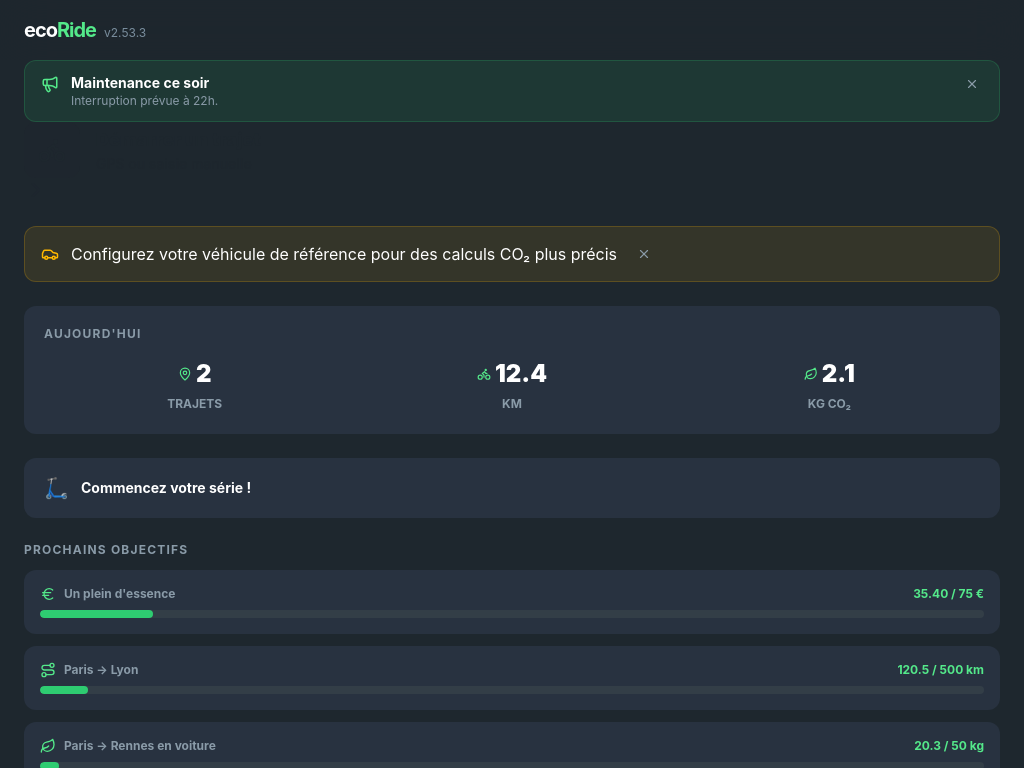
Test: DashboardPage announcement banner › stores the current announcement id when dismissed
The width and height of the screenshot is (1024, 768).
Click the button named "Fermer l'annonce" at (972, 84), box [961,73,983,95]
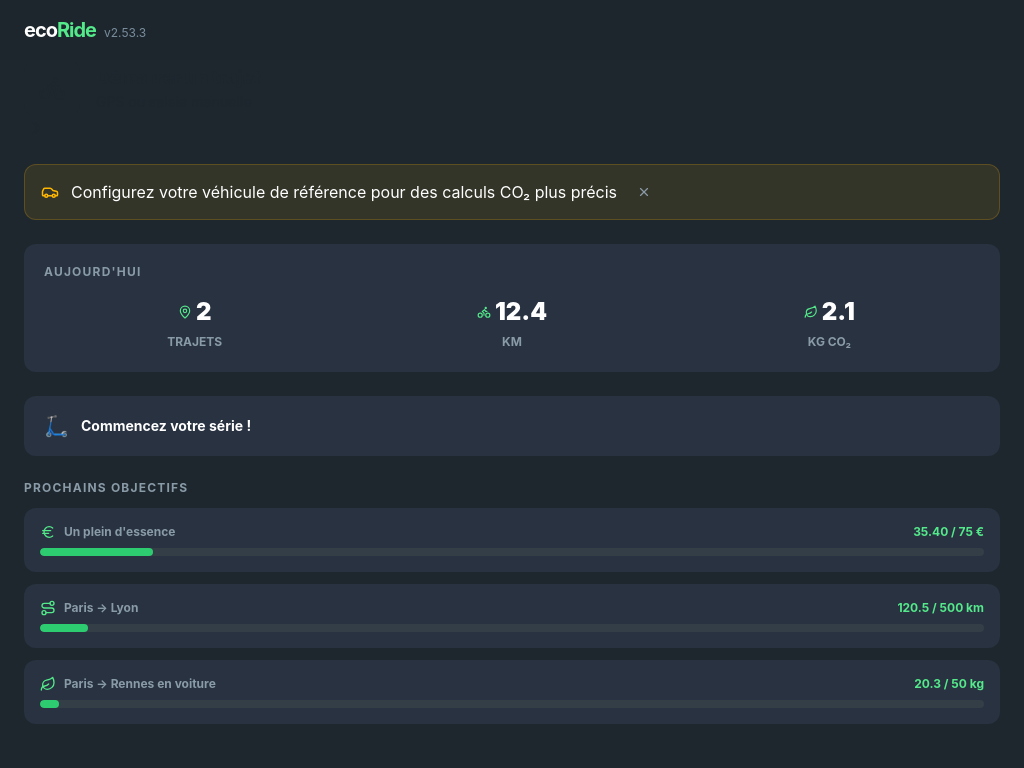
Check: the element with test id "announcement-banner" is gone
